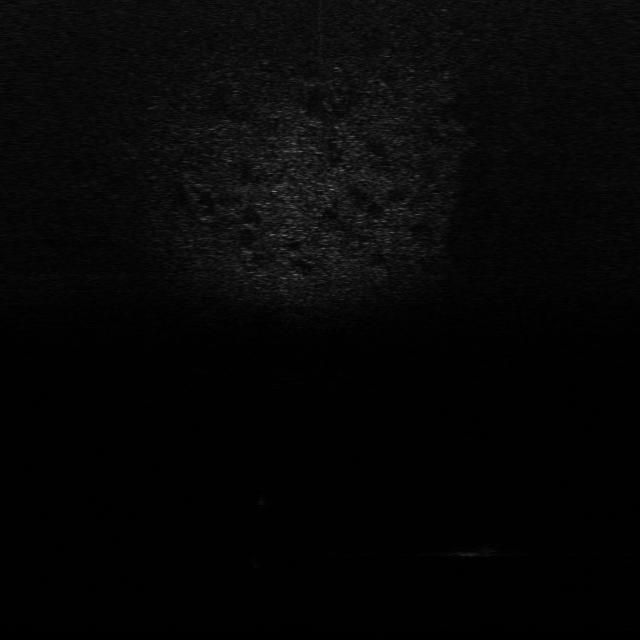metal bucket: (444, 537, 497, 563)
